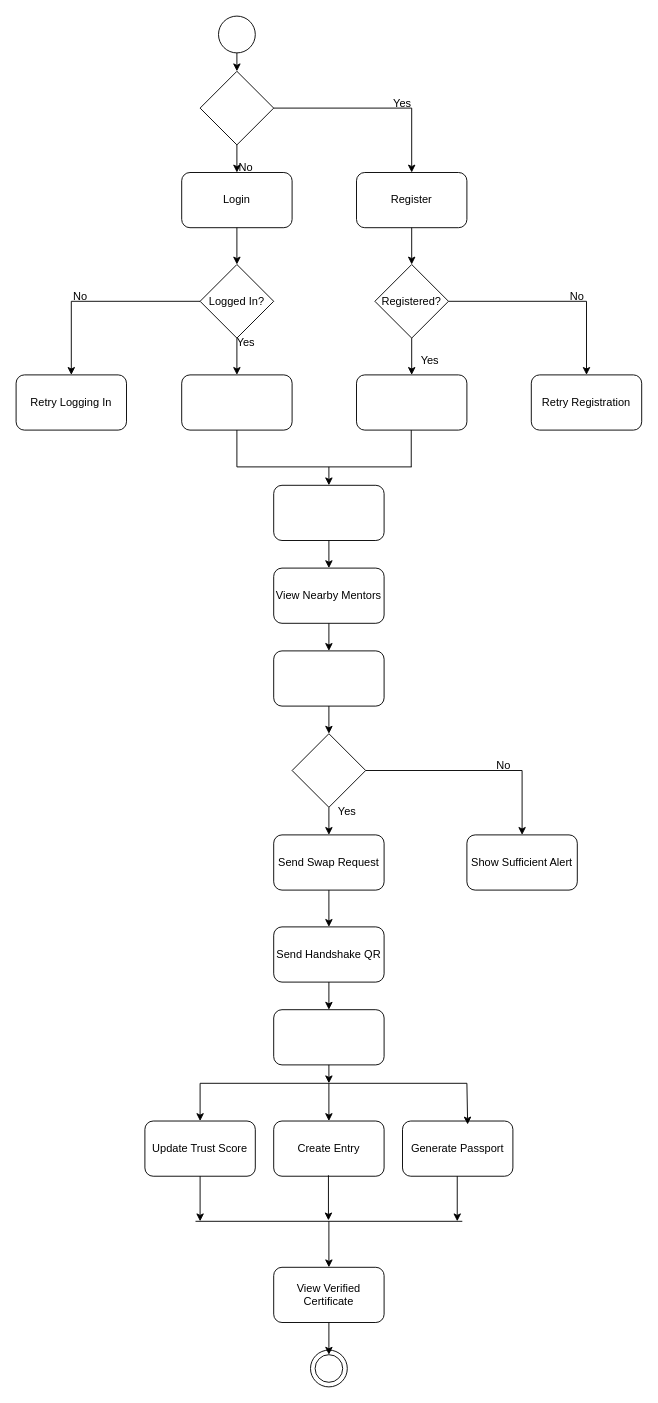
This 658x1403 diagram has some shape labels left out. Each missing label, with the centre of its shape:
Grant GPS Permission: the point at 328,512
Is New User?: the point at 236,107
Proceed to Login: the point at 411,402
Requirements met?: the point at 328,770
Select Skill / Mentor: the point at 328,678
Successful Login: the point at 236,402
Verify Handshake: the point at 328,1037
